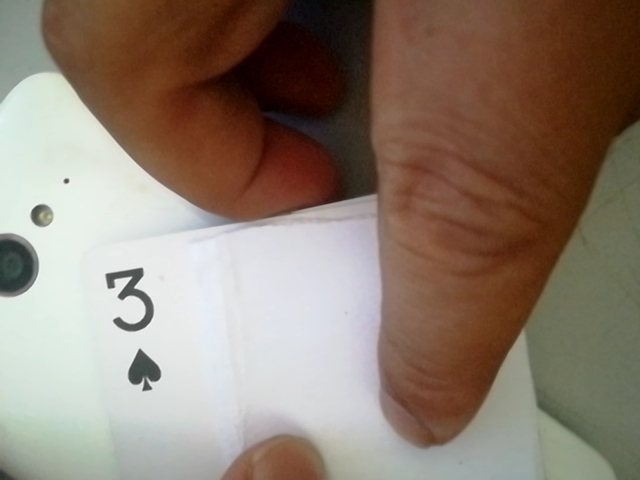ht 3: (90, 253, 174, 400)
